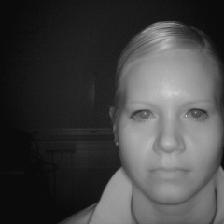normal: (99, 15, 224, 207)
